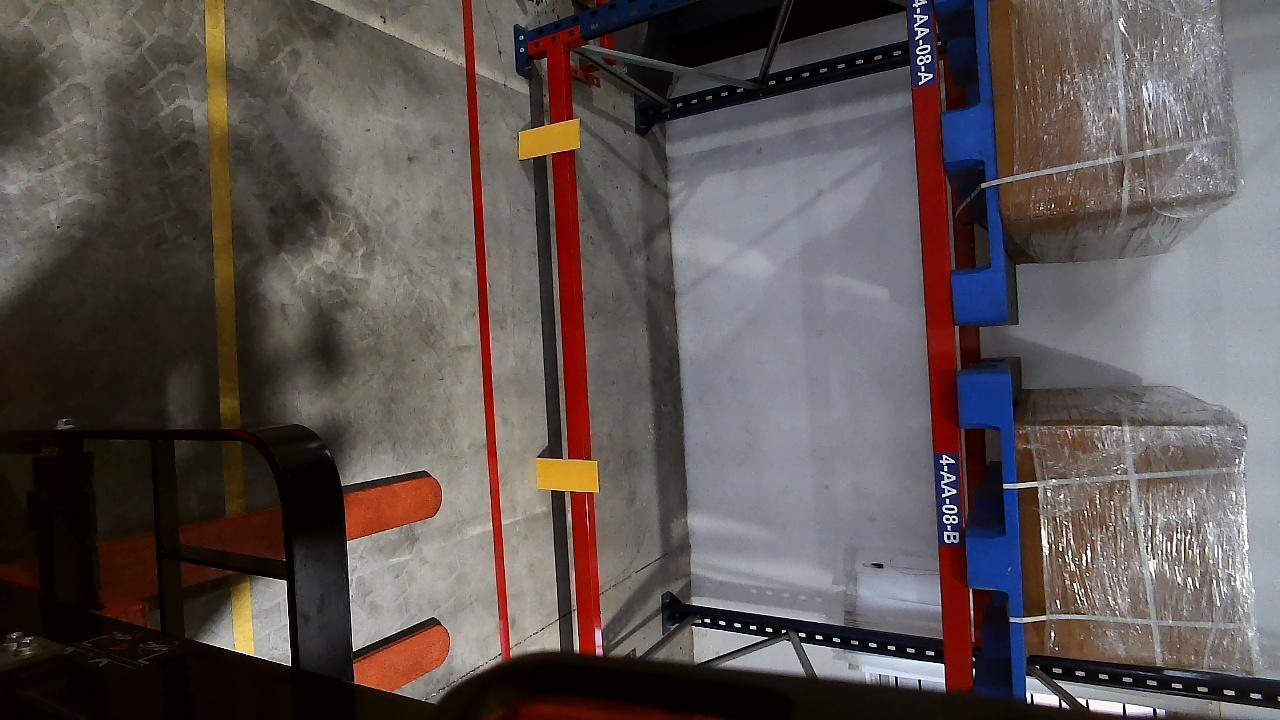red_line: (462, 4, 512, 656)
yellow_line: (204, 2, 243, 427)
